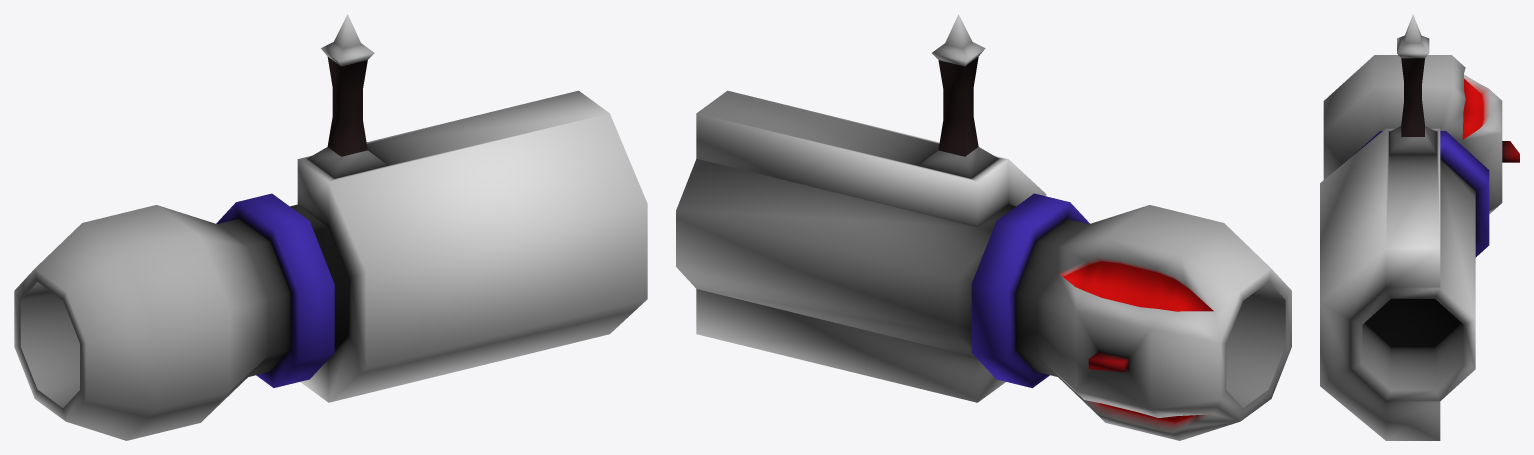
File: RocketLauncher.fbx
3 renders of one model, left to right at view 1: azimuth 30°, elevation 25°; view 2: azimuth 150°, elevation 25°; view 3: azimuth 270°, elevation 25°, orthographic. The views are drawn at different scales.
Visible parts, largest first — view 1: RocketLauncher; view 2: RocketLauncher; view 3: RocketLauncher.
Boxes of the visible parts, x1,y1,x2,y2 form: RocketLauncher: [14, 14, 647, 440]; RocketLauncher: [676, 14, 1291, 440]; RocketLauncher: [1320, 14, 1519, 440].
Size of the model in its own units: 534 by 346 by 195.
